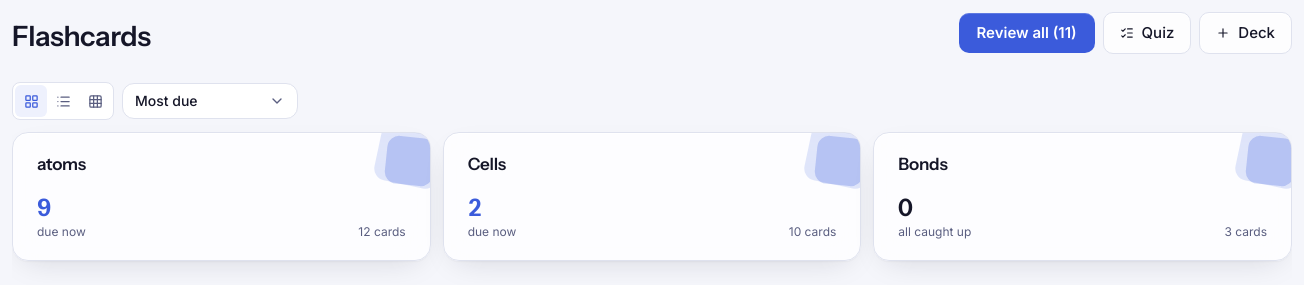
Test: decks as icons › shows a big icon with the number due on it
The width and height of the screenshot is (1304, 285).
Click the radio button named "Icons": point(95, 101) x1=79 y1=85 x2=111 y2=117
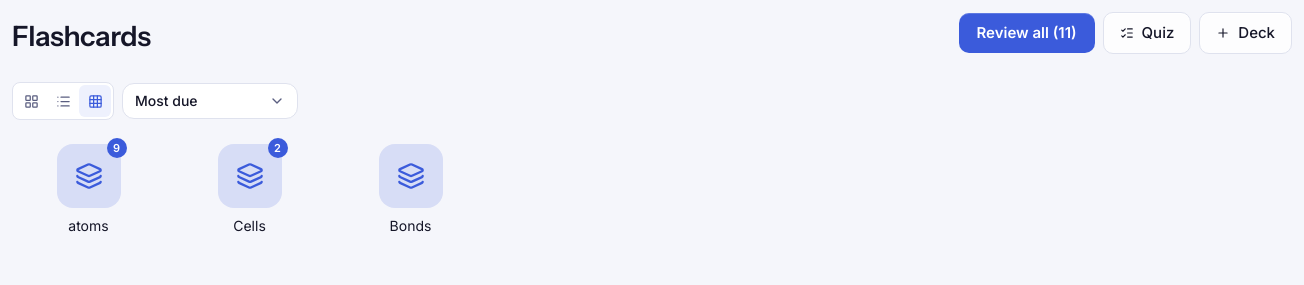
expect the text "9" is shown: met, box x1=106 y1=138 x2=126 y2=158
